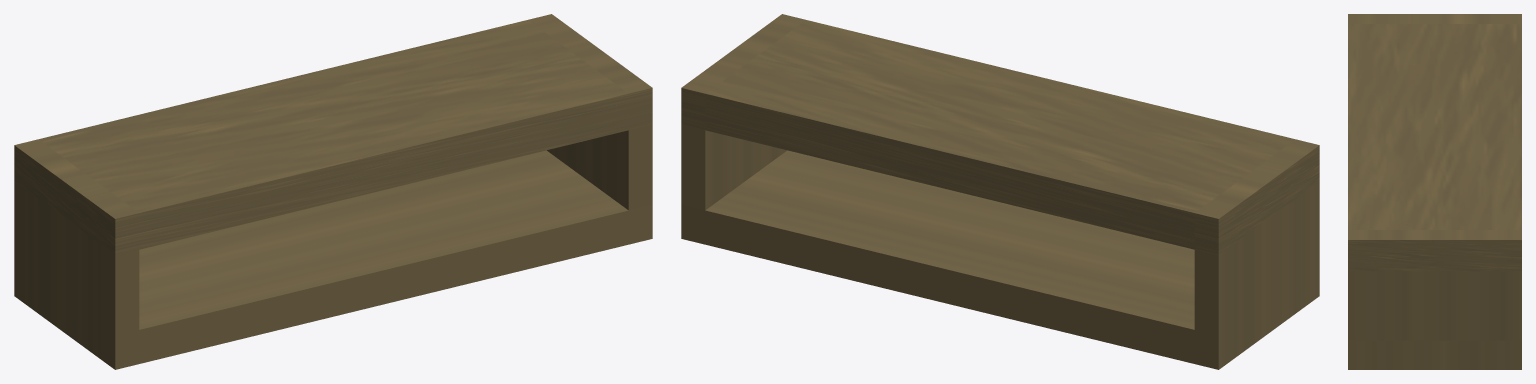
File: TV_Stand.fbx
The picture shows the model from 3 angles, left to right: view 1: azimuth 30°, elevation 25°; view 2: azimuth 150°, elevation 25°; view 3: azimuth 270°, elevation 25°; orthographic projection. The views are drawn at different scales.
Parts seen in each view (by area): view 1: pCube2; view 2: pCube2; view 3: pCube2.
Part boxes in pixels (x1,y1,x2,y2): pCube2: (14, 14, 652, 369); pCube2: (681, 14, 1319, 369); pCube2: (1348, 14, 1521, 369).
Bounding box in the file's own units: 76.88 × 20.63 × 25.
Materials: 1 (1 with a texture image).
